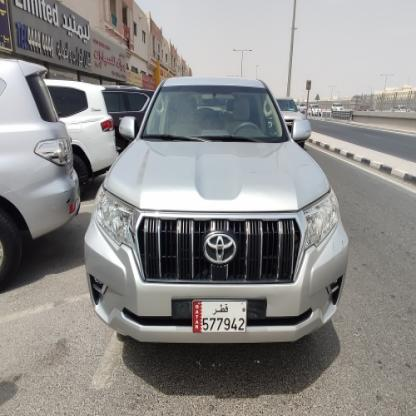np: (190, 295, 249, 335)
